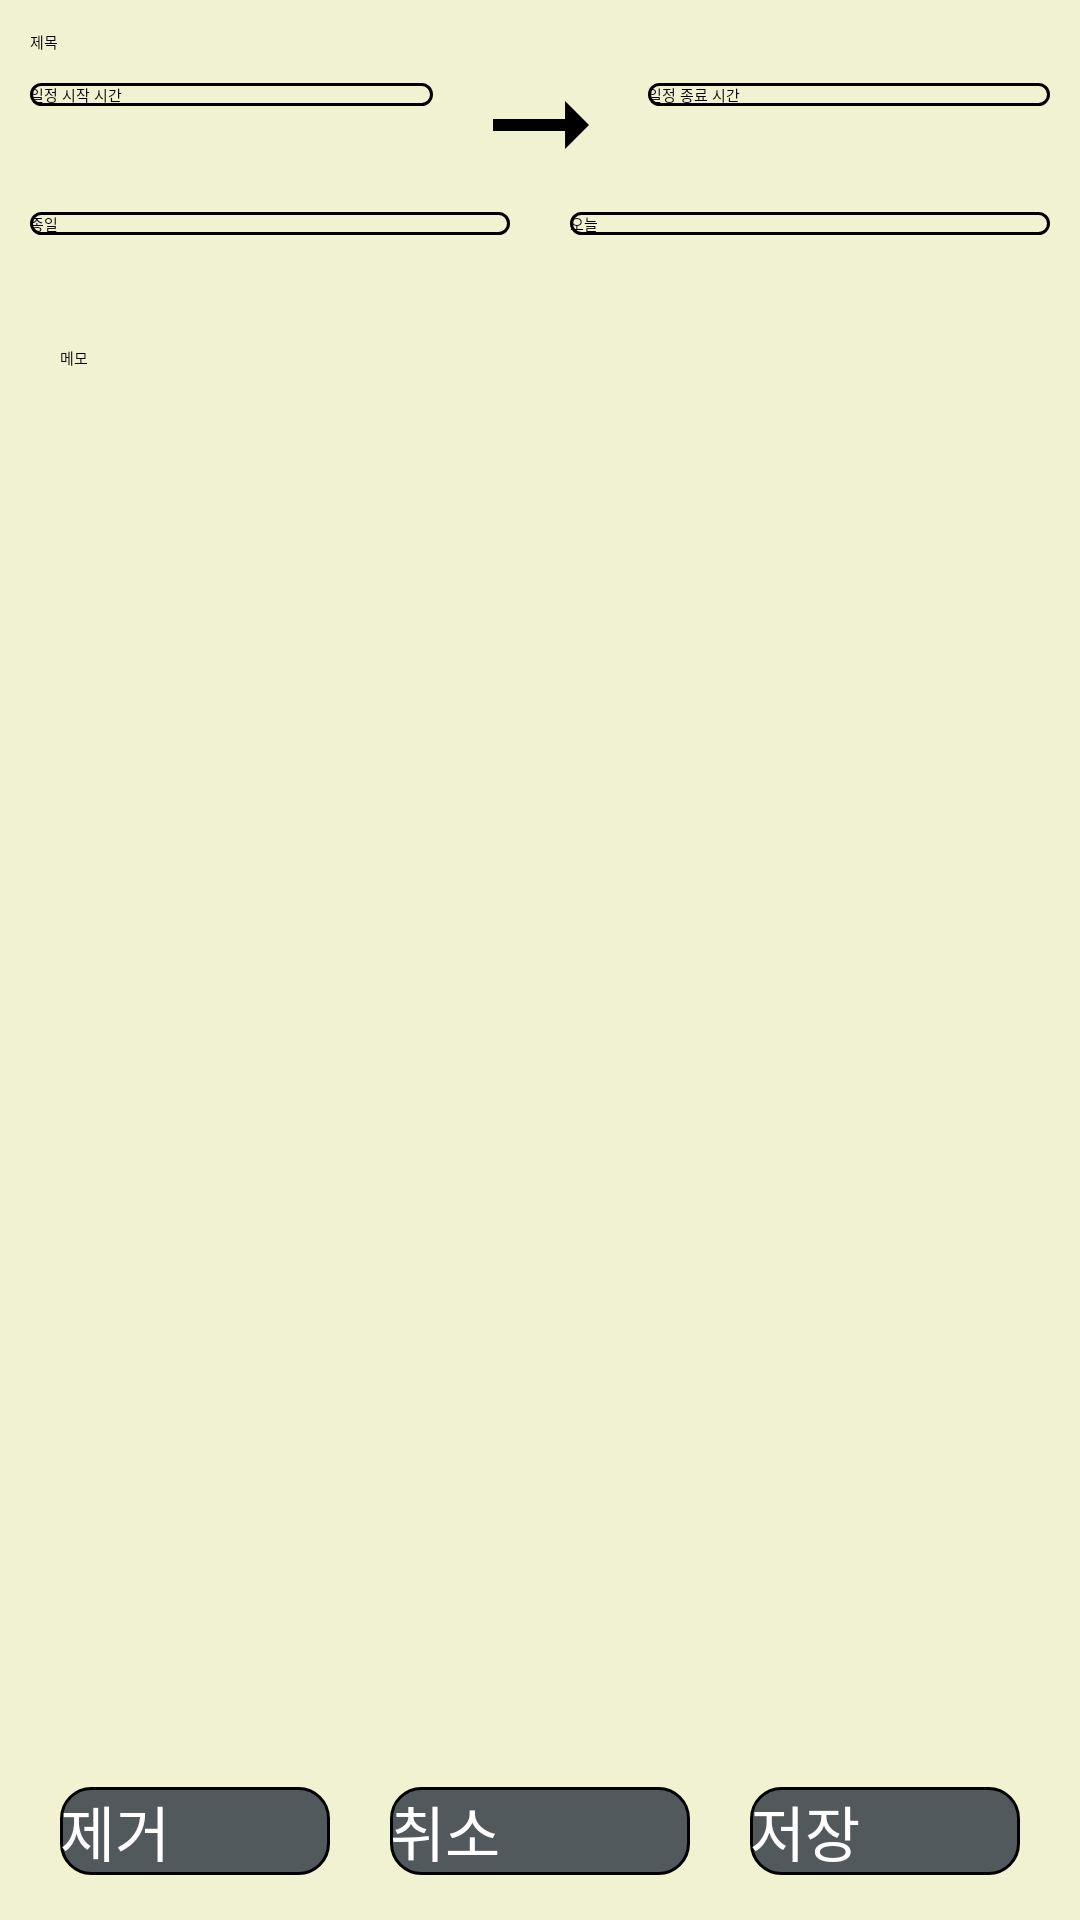

Locate icon controls on the screen. Image size 1080 × 1920, boxes as [x1, y1, x2, y2].
right arrow: [493, 101, 589, 149]
